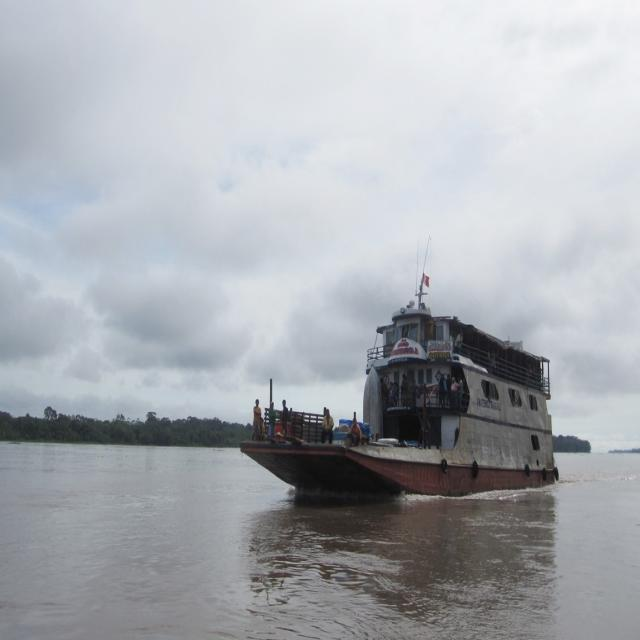houseboat: (243, 282, 558, 509)
